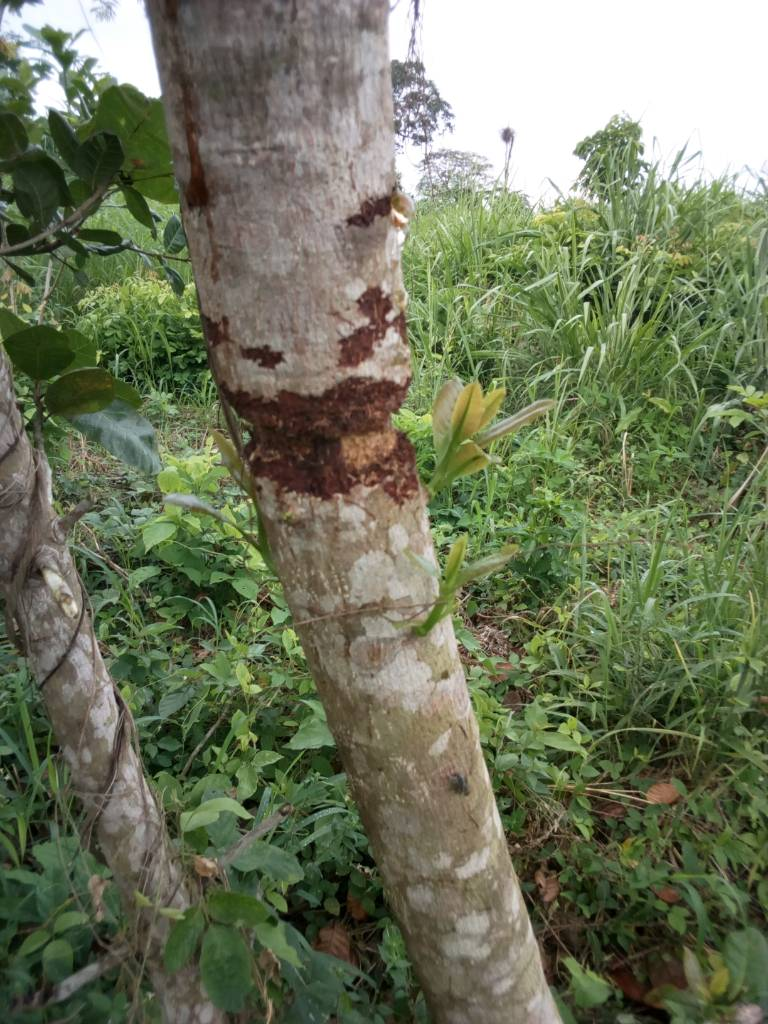Analepse trifasciata: (199, 360, 446, 503)
